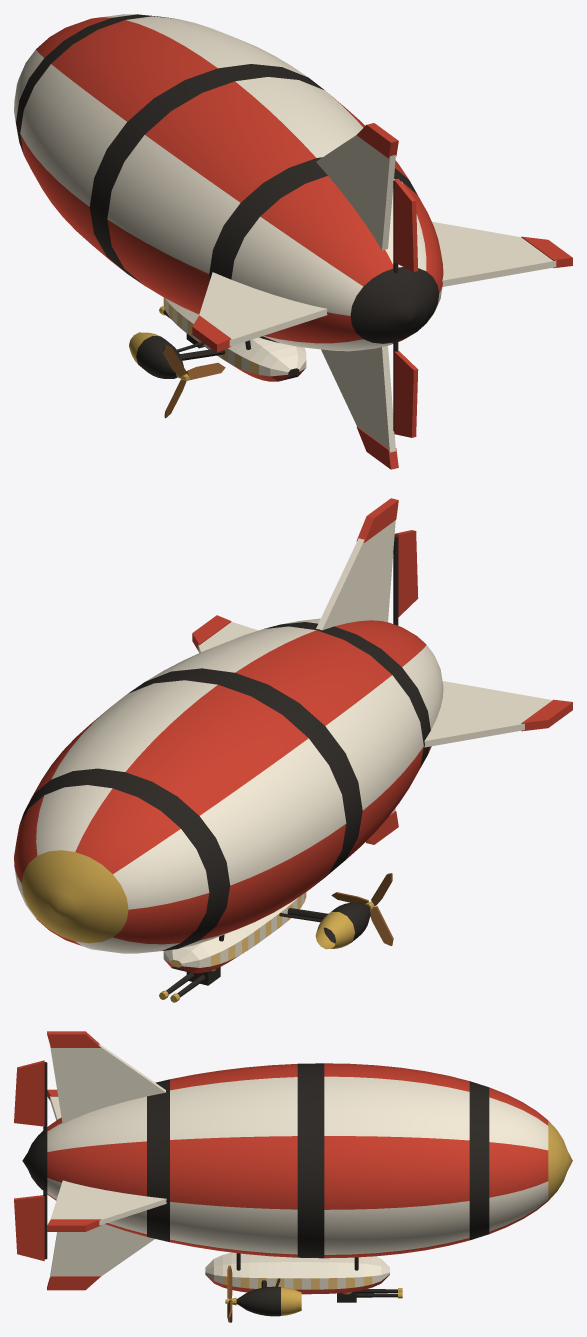
Rendered from dirigivel2.glb.
3 views of the same model, one above another, from view 1: azimuth 30°, elevation 25°; view 2: azimuth 150°, elevation 25°; view 3: azimuth 270°, elevation 25° (orthographic). The views are drawn at different scales.
Visible parts, largest first — view 1: dg_body, rudder, prop_L; view 2: dg_body, rudder, prop_L, gun; view 3: dg_body, rudder, gun.
Boxes of the visible parts, x1,y1,x2,y2 form: dg_body: (14,14,572,469); rudder: (393,178,418,437); prop_L: (162,345,225,418); dg_body: (14,498,572,973); rudder: (393,530,418,625); prop_L: (331,873,393,945); gun: (159,967,220,1002); dg_body: (22,1031,572,1316); rudder: (14,1060,47,1261); gun: (337,1288,402,1302).
Size of the model in its own units: 8.2 by 7.47 by 14.23.
